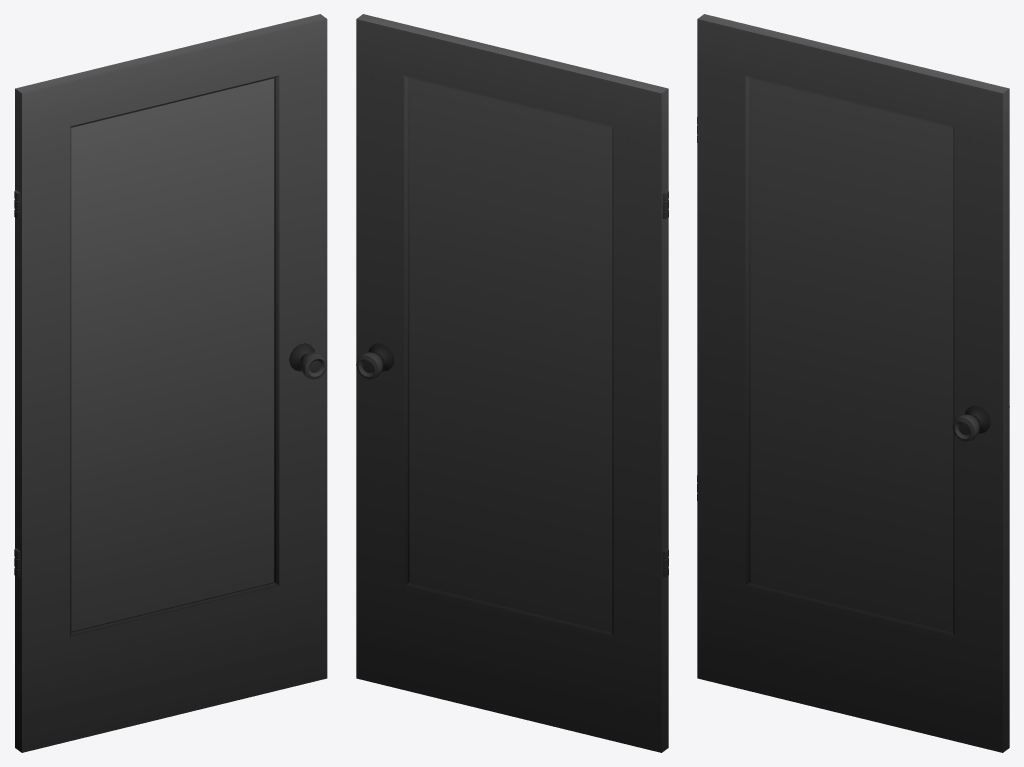
Rendered from Door_01.fbx.
3 renders of one model, left to right at view 1: azimuth 30°, elevation 25°; view 2: azimuth 150°, elevation 25°; view 3: azimuth 330°, elevation 25°, orthographic.
Parts seen in each view (by area): view 1: door1; view 2: door1; view 3: door1.
Part boxes in pixels (x1,y1,x2,y2): door1: (14, 14, 327, 752); door1: (356, 14, 668, 752); door1: (697, 14, 1009, 752).
Size of the model in its own units: 0.9692 by 1.98 by 0.1954.
